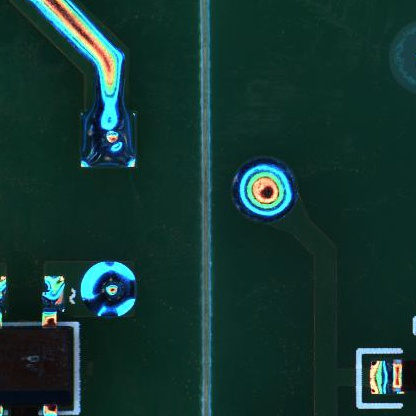spot: (230, 158, 299, 224), (79, 111, 136, 171), (80, 261, 136, 320)
